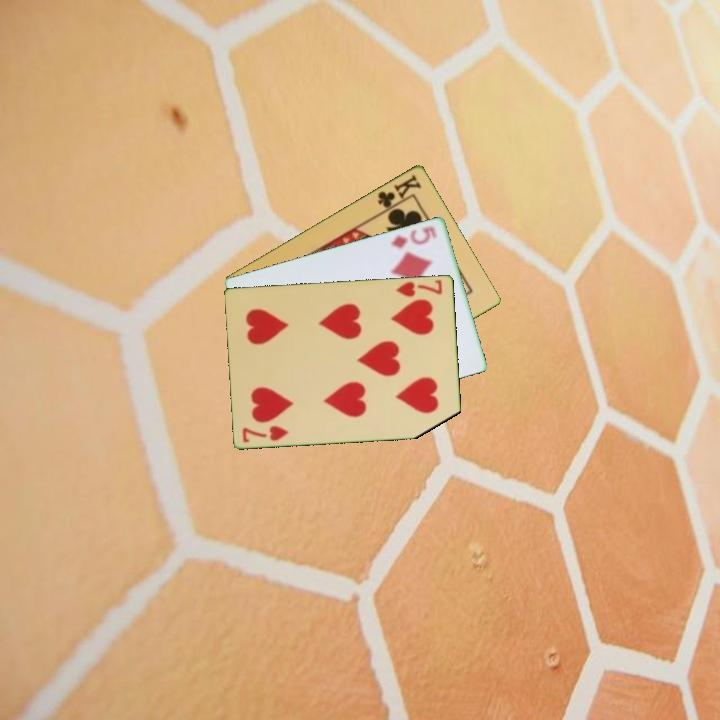5d: (387, 222, 440, 251)
7h: (239, 422, 292, 445), (393, 276, 445, 299)
Kc: (374, 171, 424, 215)
